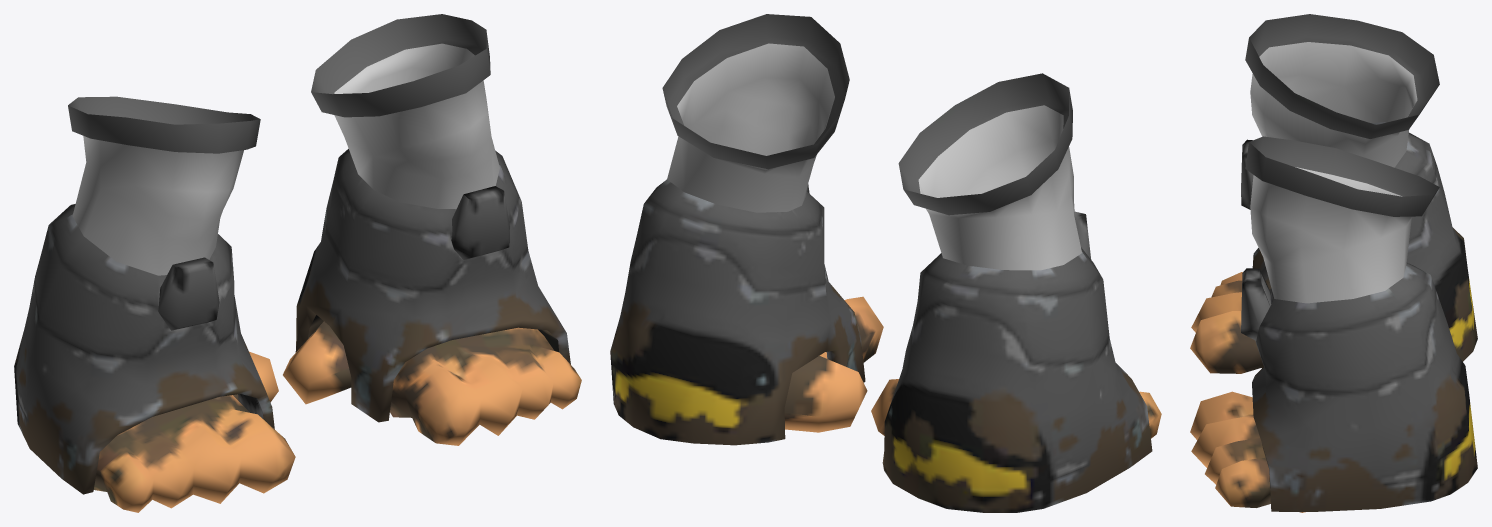
3 renders of one model, left to right at view 1: azimuth 30°, elevation 25°; view 2: azimuth 150°, elevation 25°; view 3: azimuth 270°, elevation 25°, orthographic. The views are drawn at different scales.
Visible parts, largest first — view 1: model_0_submesh_0, model_0_submesh_1, model_0_submesh_2; view 2: model_0_submesh_0, model_0_submesh_1, model_0_submesh_2; view 3: model_0_submesh_0, model_0_submesh_1, model_0_submesh_2.
Boxes of the visible parts, x1,y1,x2,y2 form: model_0_submesh_0: (14, 149, 581, 512); model_0_submesh_1: (72, 43, 499, 275); model_0_submesh_2: (68, 14, 490, 153); model_0_submesh_0: (610, 179, 1161, 512); model_0_submesh_1: (667, 43, 1081, 270); model_0_submesh_2: (662, 14, 1072, 215); model_0_submesh_0: (1190, 122, 1477, 512); model_0_submesh_1: (1250, 42, 1417, 303); model_0_submesh_2: (1245, 14, 1439, 216).
Bounding box in the file's own units: 0.8494 × 0.606 × 0.4809.
